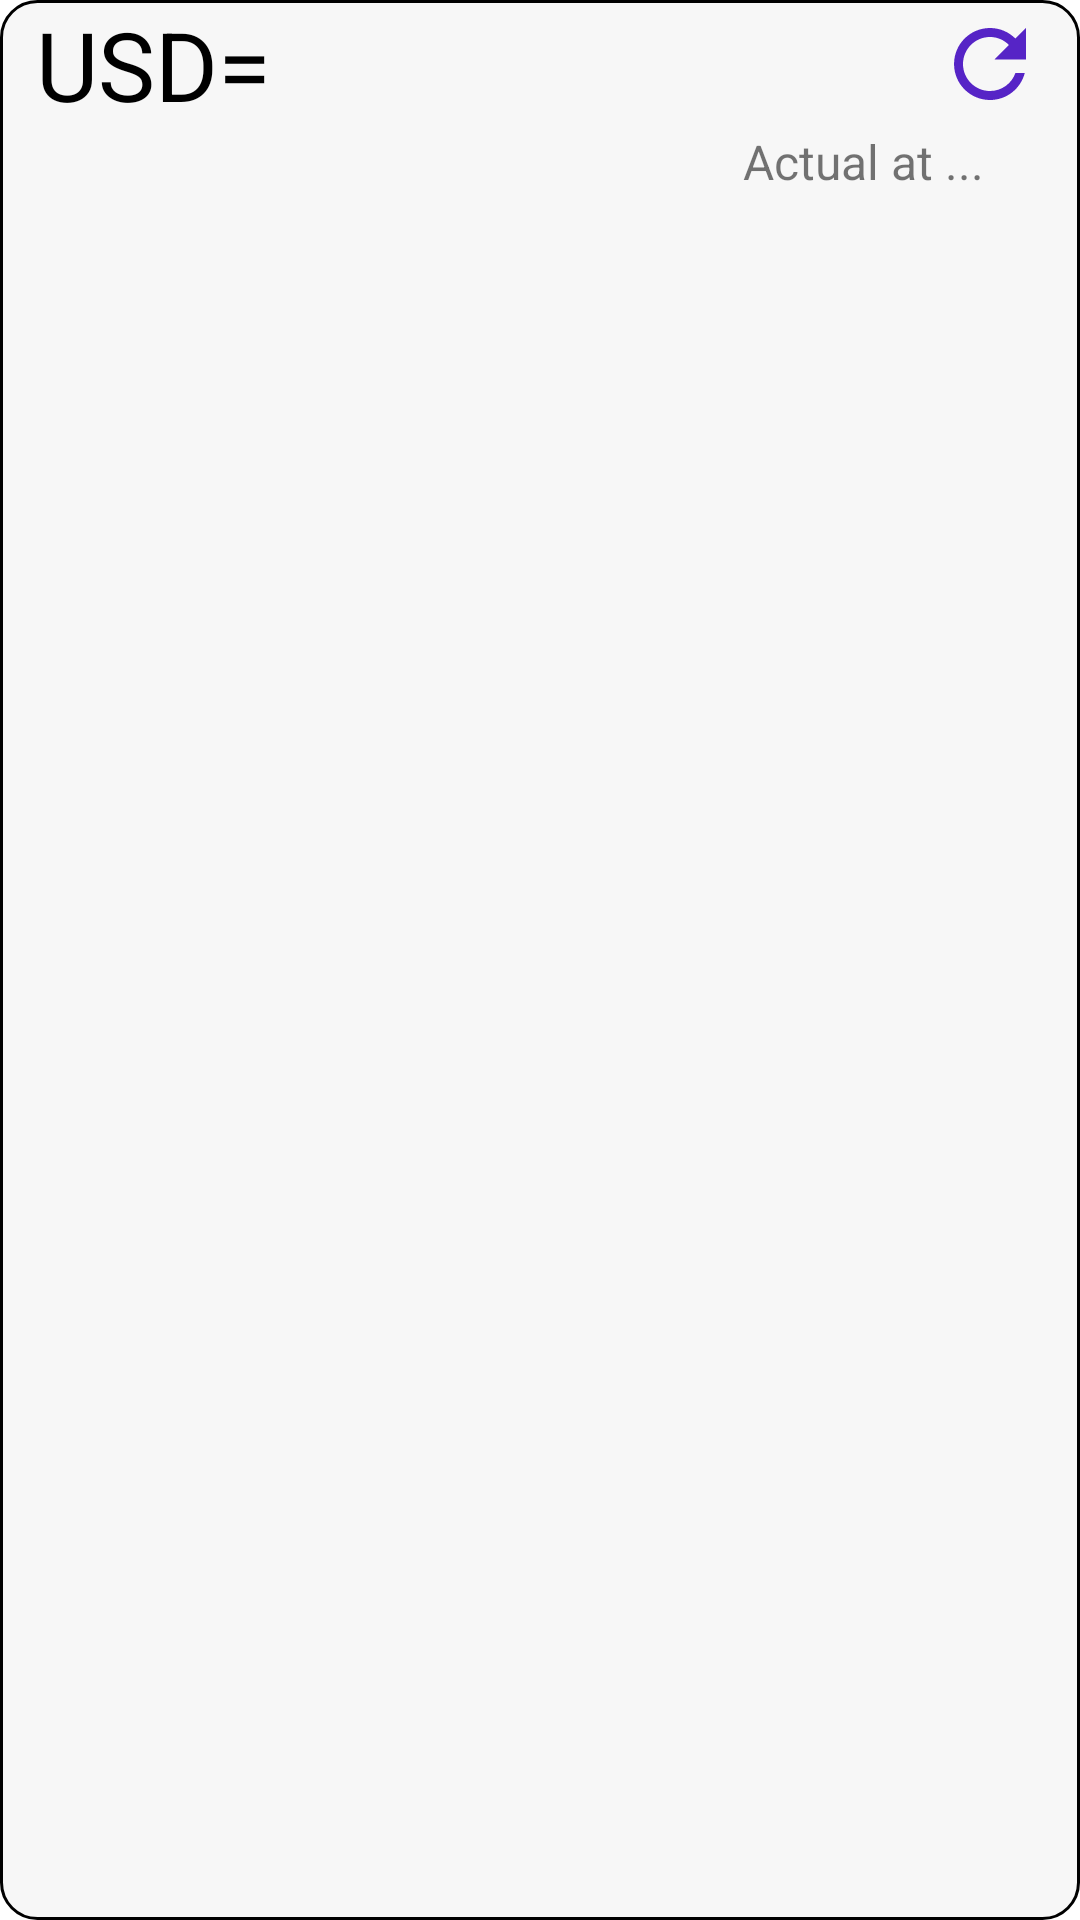

Point at icon controls on the screen. Image size 1080w x 1920h, points as (x,y).
refresh: (990,64)
